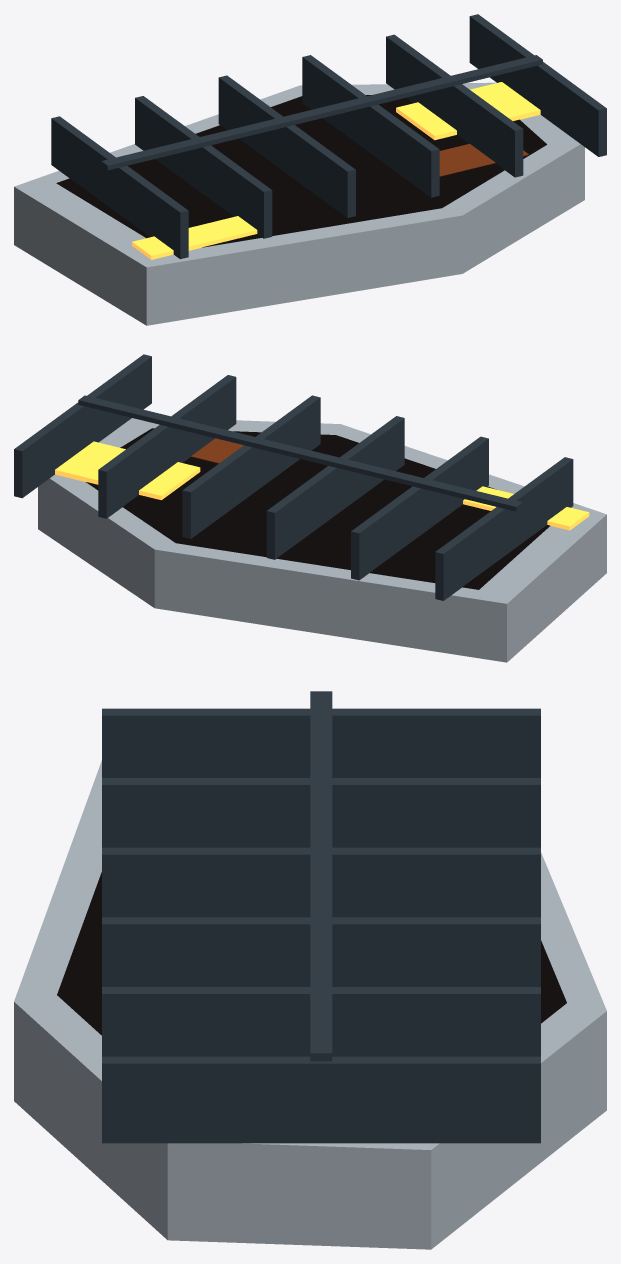
Rendered from debris_hullchunk.glb.
3 renders of one model, top to bottom at view 1: azimuth 30°, elevation 25°; view 2: azimuth 150°, elevation 25°; view 3: azimuth 270°, elevation 25°, orthographic. The views are drawn at different scales.
Parts seen in each view (by area): view 1: chunk_outer, ribs, chunk_inner, beam, hot, rust; view 2: chunk_outer, ribs, chunk_inner, beam, hot, rust; view 3: ribs, chunk_outer, beam, chunk_inner.
Boxes of the visible parts, left/top/right/bottom form: chunk_outer: left=14, top=82, right=584, bottom=325; ribs: left=51, top=14, right=606, bottom=259; chunk_inner: left=56, top=95, right=546, bottom=247; beam: left=101, top=55, right=542, bottom=170; hot: left=132, top=82, right=540, bottom=259; rust: left=439, top=143, right=528, bottom=176; chunk_outer: left=38, top=418, right=606, bottom=662; ribs: left=14, top=354, right=573, bottom=600; chunk_inner: left=86, top=428, right=549, bottom=589; beam: left=78, top=395, right=522, bottom=511; hot: left=55, top=441, right=589, bottom=530; rust: left=191, top=438, right=243, bottom=463; ribs: left=102, top=708, right=540, bottom=1143; chunk_outer: left=14, top=760, right=606, bottom=1249; beam: left=310, top=691, right=332, bottom=1061; chunk_inner: left=57, top=872, right=566, bottom=1035.
Bounding box in the file's own units: 8.7 × 1.88 × 5.4.
